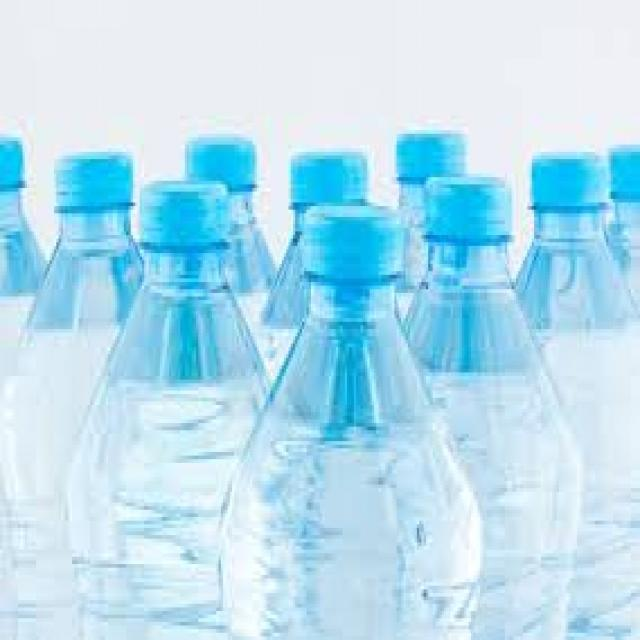Plastic: (221, 201, 476, 640), (68, 168, 273, 636), (402, 176, 585, 640), (0, 151, 145, 640), (512, 154, 640, 640), (0, 135, 44, 391)
